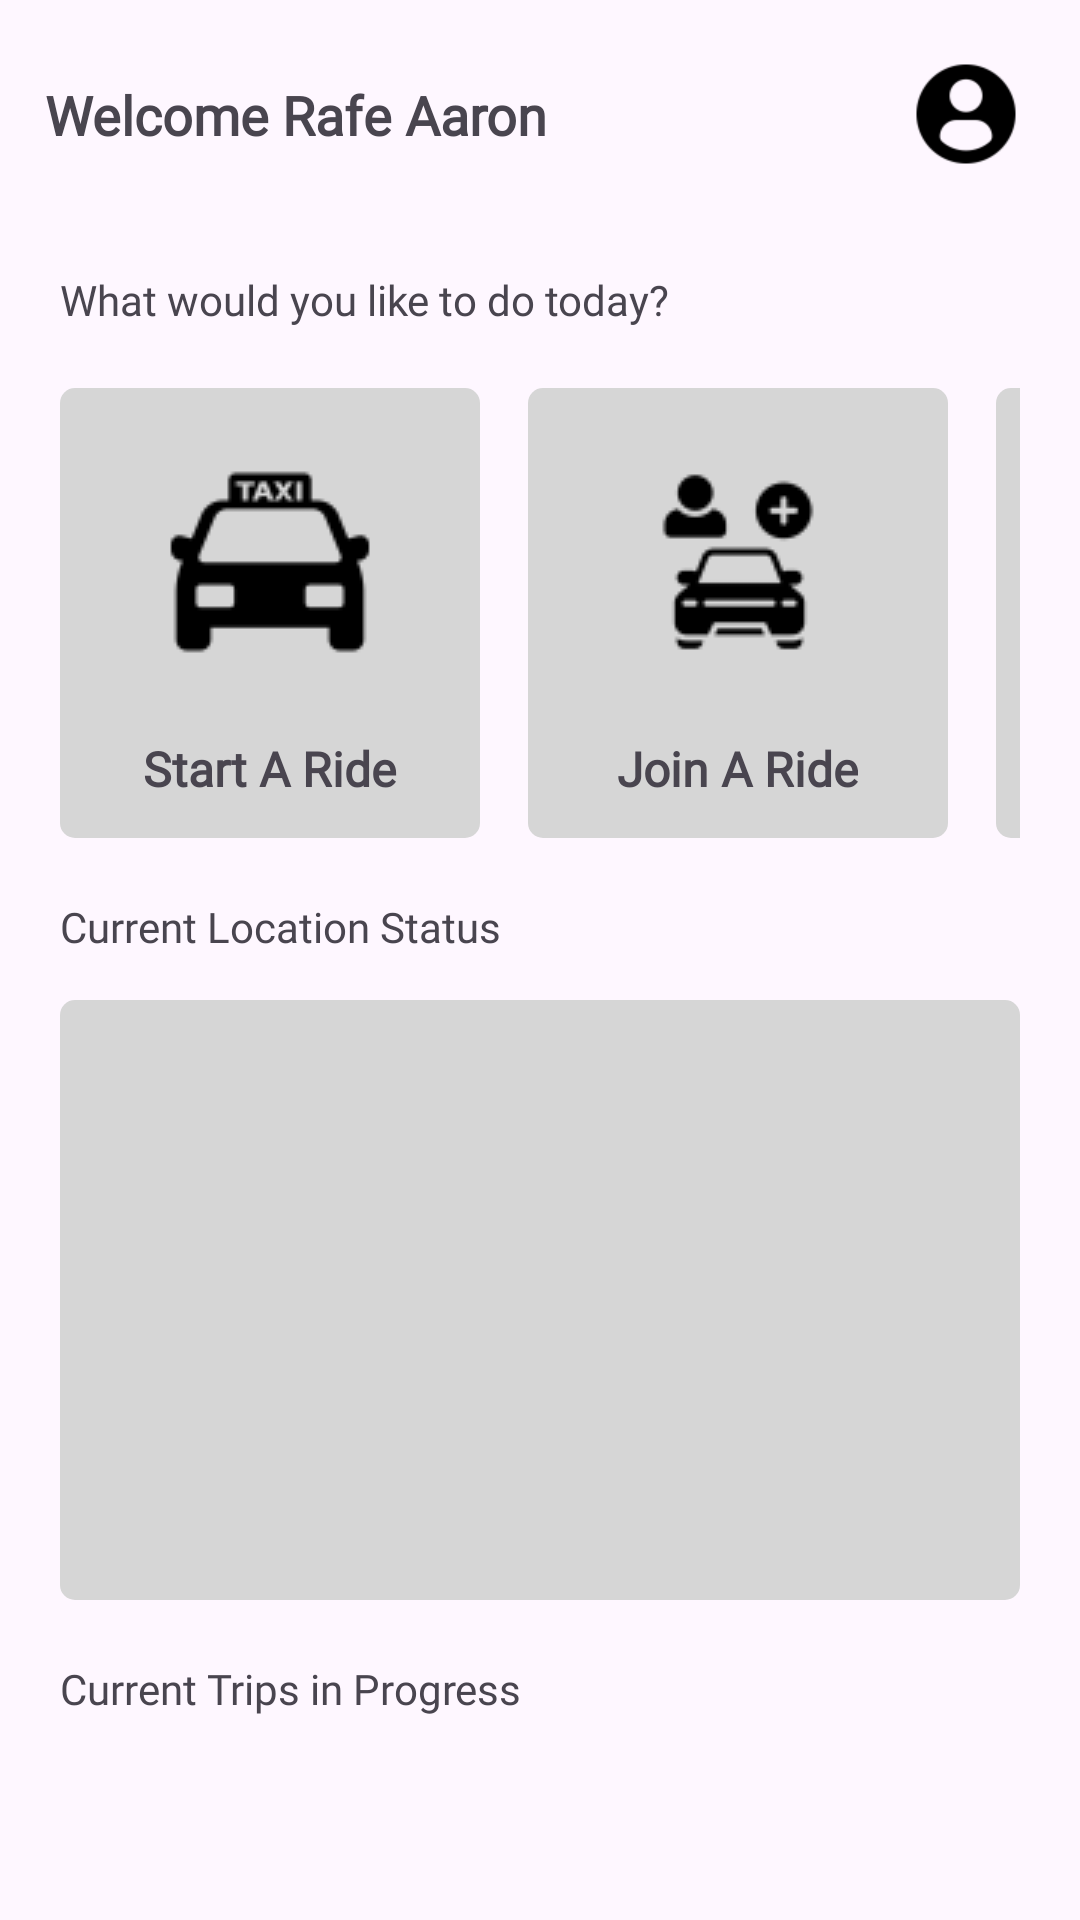

Screen size 1080px×1920px. Icon name, then its center in pixels as (x,y):
profile: (966,114)
